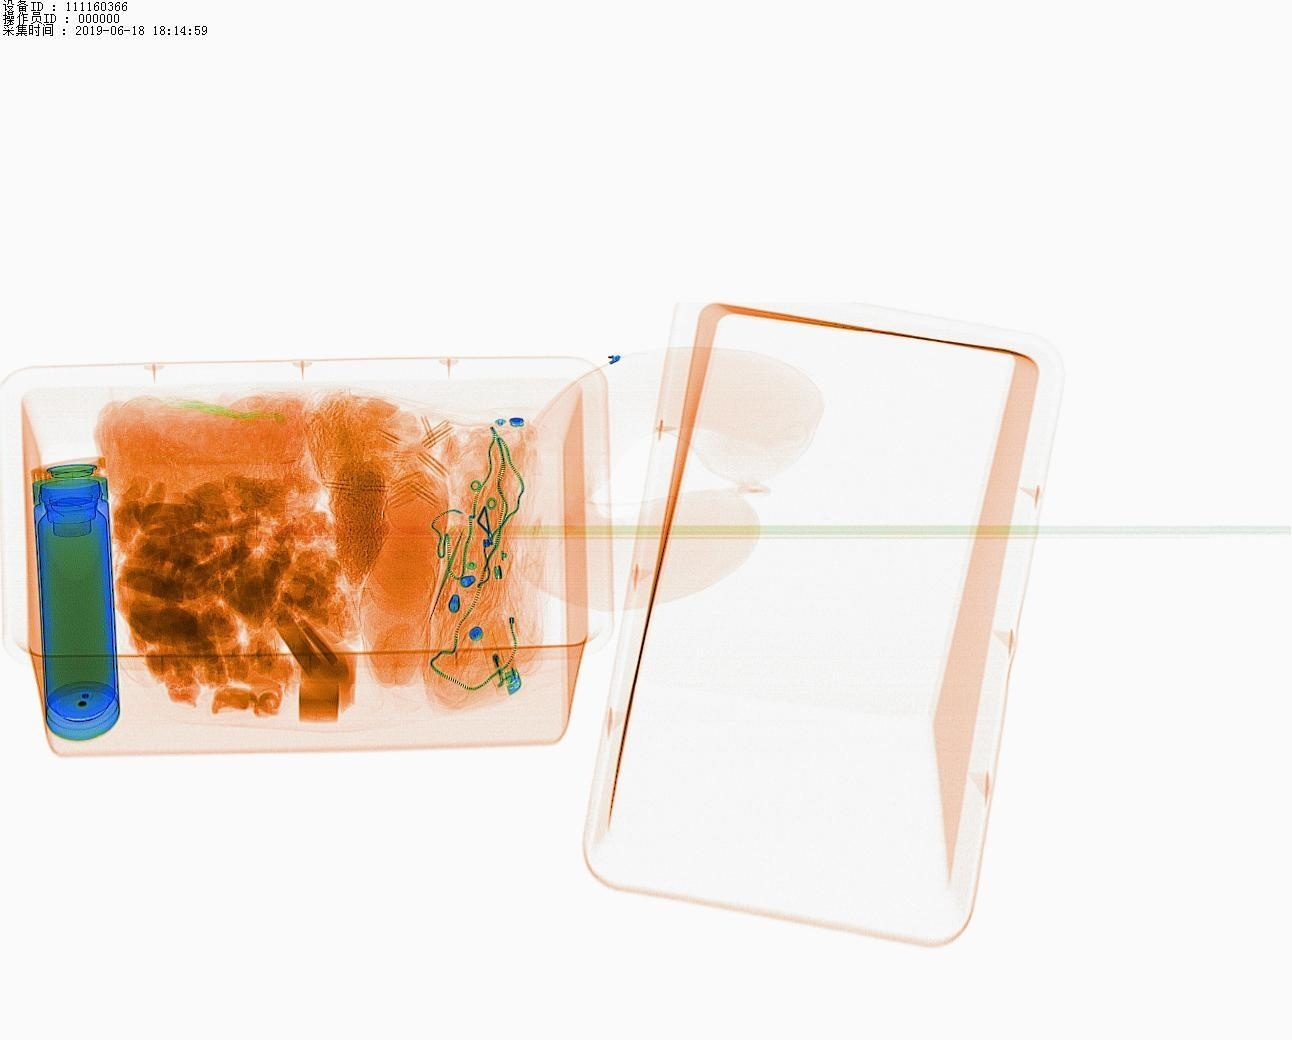NonmetallicFire: (466, 600, 544, 720)
